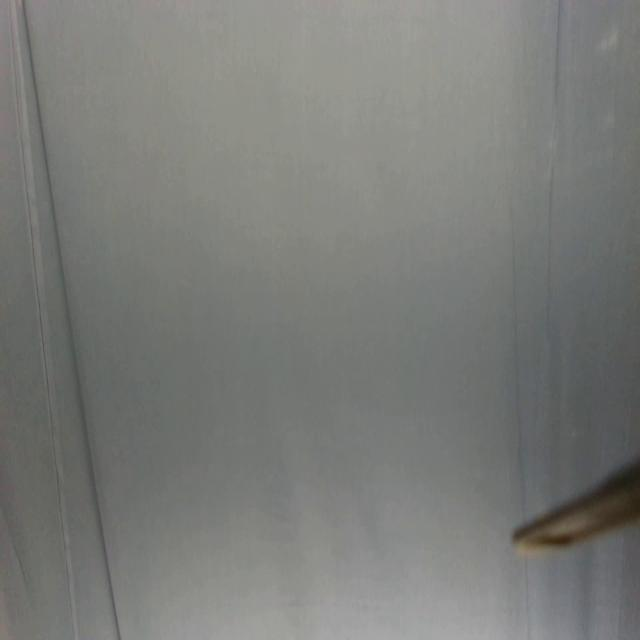crease: (9, 0, 122, 640), (505, 202, 525, 518), (546, 0, 564, 334), (523, 558, 533, 640)
